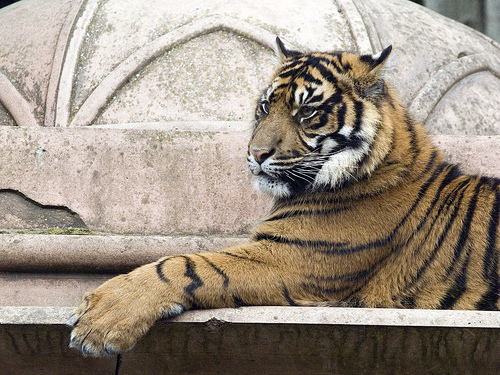Tigre: (213, 47, 490, 288)
